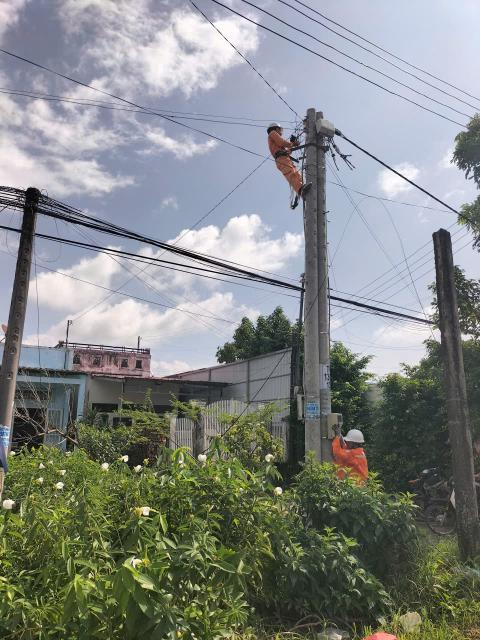gloves: (327, 420, 345, 438), (290, 141, 302, 148)
harness: (269, 149, 299, 159), (296, 183, 316, 196)
helmet: (346, 425, 369, 446), (261, 122, 287, 133)
